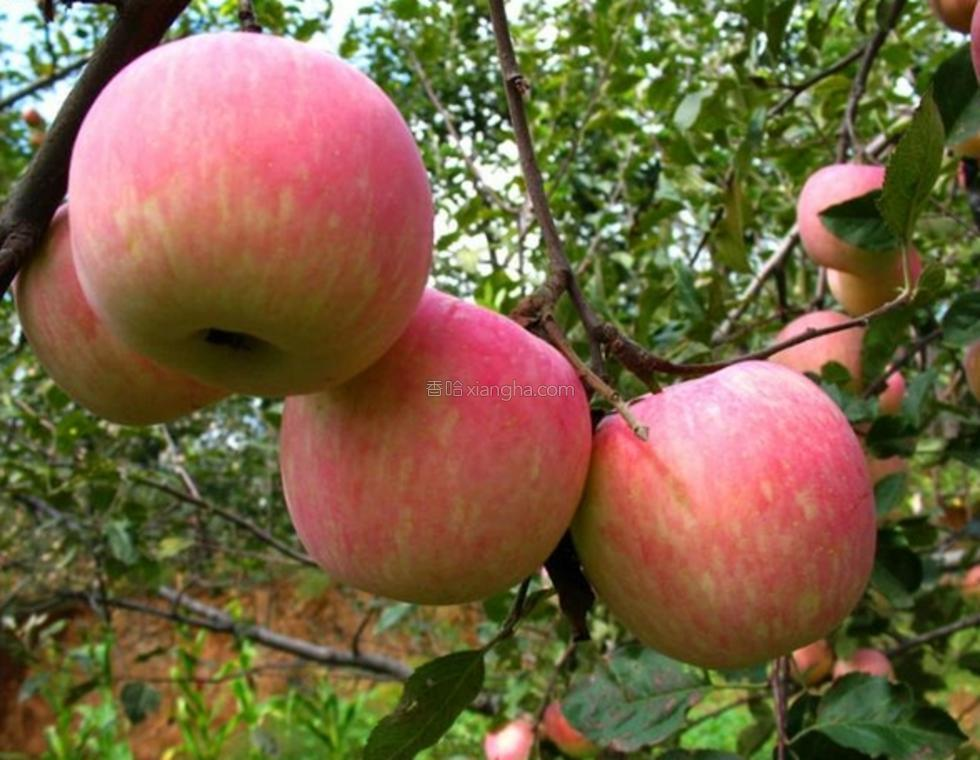apple: (66, 27, 439, 399), (272, 296, 603, 599), (579, 358, 859, 664)
